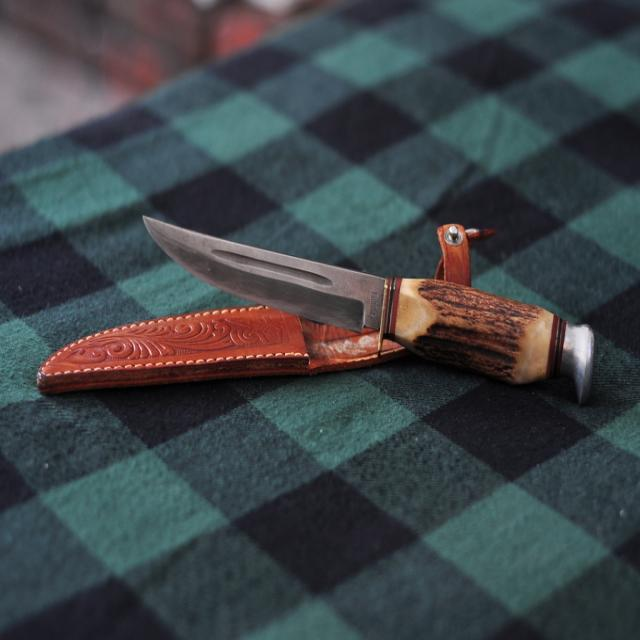Knife: (145, 218, 594, 402)
